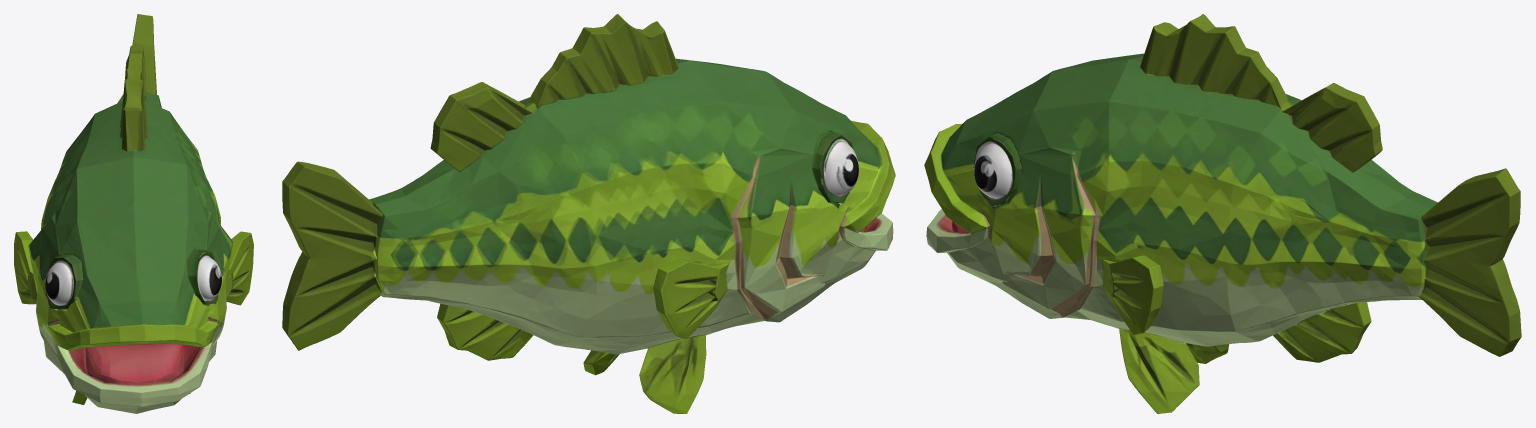
File: fish_epic.glb
3 renders of one model, left to right at view 1: azimuth 30°, elevation 25°; view 2: azimuth 150°, elevation 25°; view 3: azimuth 270°, elevation 25°, orthographic. The views are drawn at different scales.
Parts seen in each view (by area): view 1: tripo_node_ab5988b3-358b-4ac7-b71a-44bca945302b; view 2: tripo_node_ab5988b3-358b-4ac7-b71a-44bca945302b; view 3: tripo_node_ab5988b3-358b-4ac7-b71a-44bca945302b.
Boxes of the visible parts, x1,y1,x2,y2 form: tripo_node_ab5988b3-358b-4ac7-b71a-44bca945302b: [14, 14, 253, 413]; tripo_node_ab5988b3-358b-4ac7-b71a-44bca945302b: [282, 14, 895, 413]; tripo_node_ab5988b3-358b-4ac7-b71a-44bca945302b: [924, 14, 1521, 413].
Size of the model in its own units: 0.662 by 0.678 by 0.9799.
Materials: 1 (1 with a texture image).
